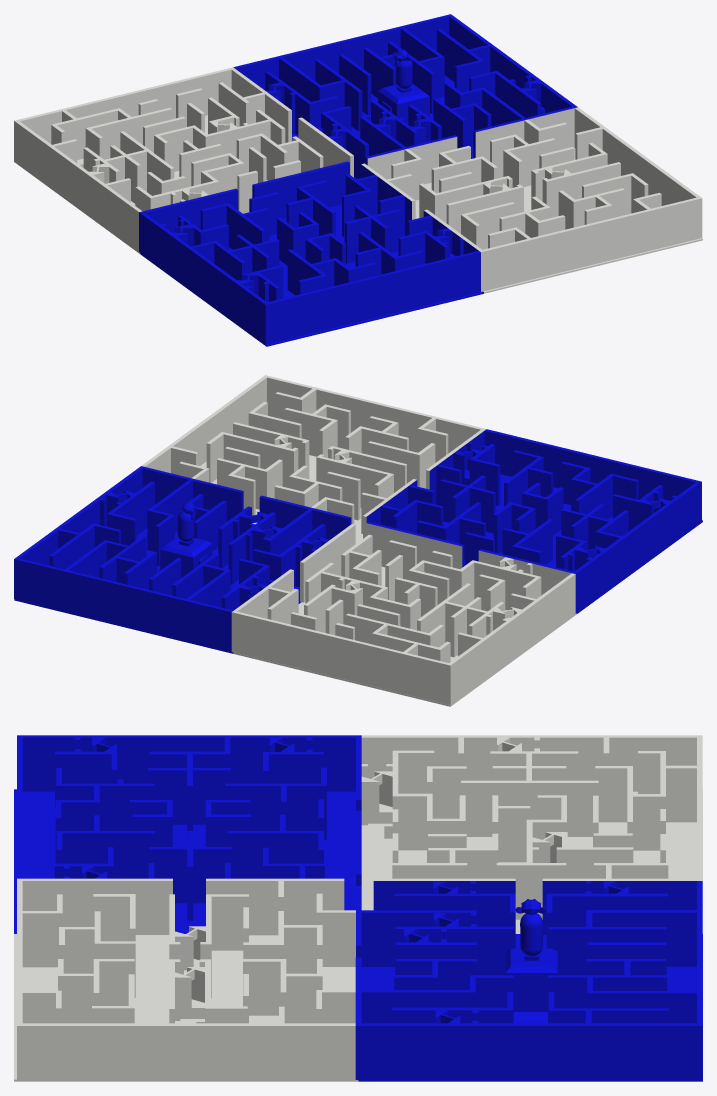
File: map3.fbx
The picture shows the model from 3 angles, top to bottom: view 1: azimuth 30°, elevation 25°; view 2: azimuth 150°, elevation 25°; view 3: azimuth 270°, elevation 25°; orthographic projection. The views are drawn at different scales.
Visible parts, largest first — view 1: Куб, Monke, Area1.002, Area1.001; view 2: Куб, Monke, Area1, Area1.003, Area1.002; view 3: Куб, Area1.001, Area1.002, Area1, Monke, Area1.003, Куб.016, Куб.013, Куб.014, Куб.006.
Boxes of the visible parts, x1,y1,x2,y2 form: Куб: [14, 14, 702, 344]; Monke: [370, 49, 433, 124]; Area1.002: [140, 204, 483, 346]; Area1.001: [415, 148, 702, 293]; Куб: [14, 375, 701, 705]; Monke: [157, 502, 212, 577]; Area1: [233, 566, 576, 706]; Area1.003: [14, 528, 301, 653]; Area1.002: [443, 474, 702, 613]; Куб: [17, 735, 702, 1079]; Area1.001: [14, 934, 358, 1081]; Area1.002: [14, 789, 355, 933]; Area1: [361, 789, 702, 933]; Monke: [506, 899, 557, 1023]; Area1.003: [358, 934, 702, 1081]; Куб.016: [361, 771, 392, 838]; Куб.013: [175, 967, 204, 1023]; Куб.014: [175, 926, 205, 974]; Куб.006: [532, 832, 561, 862].
Bounding box in the file's own units: 5989 × 1028 × 6000.
